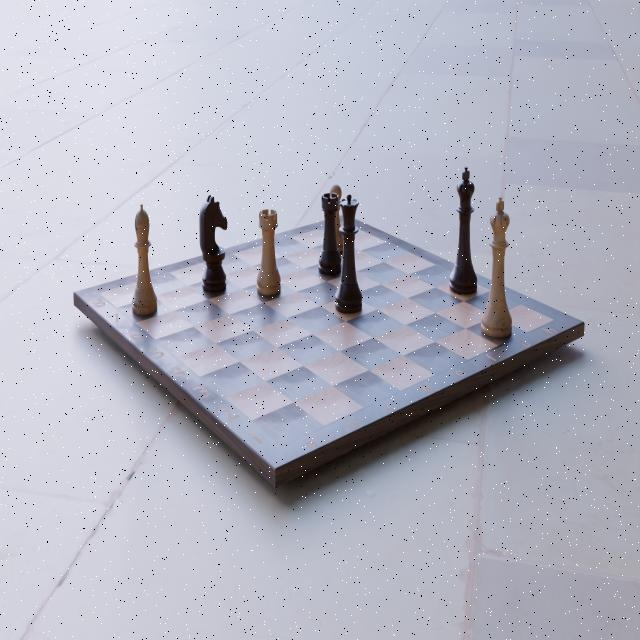black-king: (448, 164, 478, 295)
black-knight: (197, 193, 228, 295)
black-queen: (334, 193, 362, 315)
black-rook: (318, 191, 342, 276)
white-king: (479, 195, 512, 341)
white-pawn: (324, 184, 345, 256)
white-queen: (132, 202, 158, 317)
white-rook: (255, 206, 281, 297)
